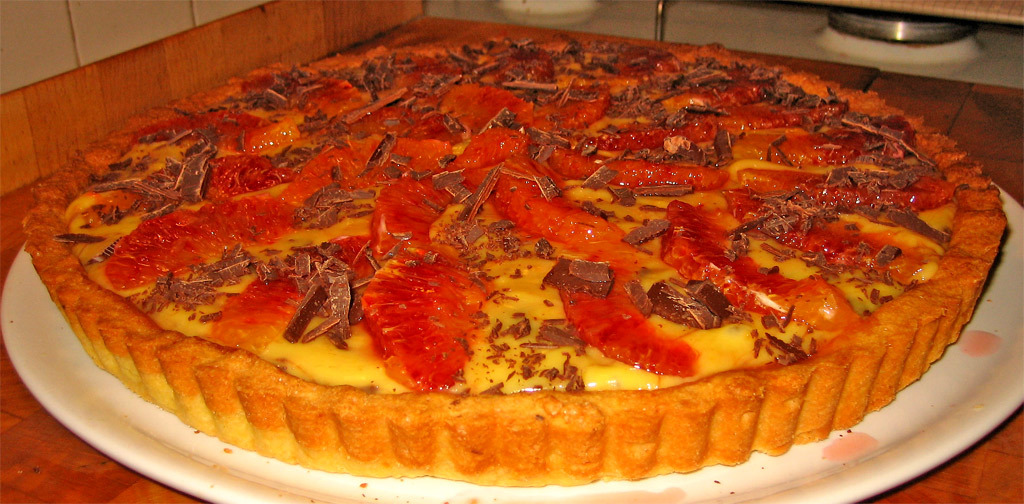Pizza: (17, 29, 1020, 488)
